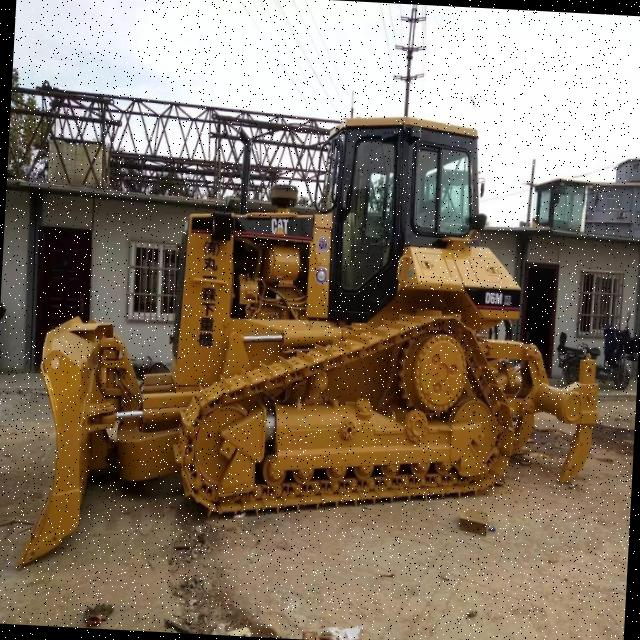Bulldozer: (3, 82, 630, 612)
